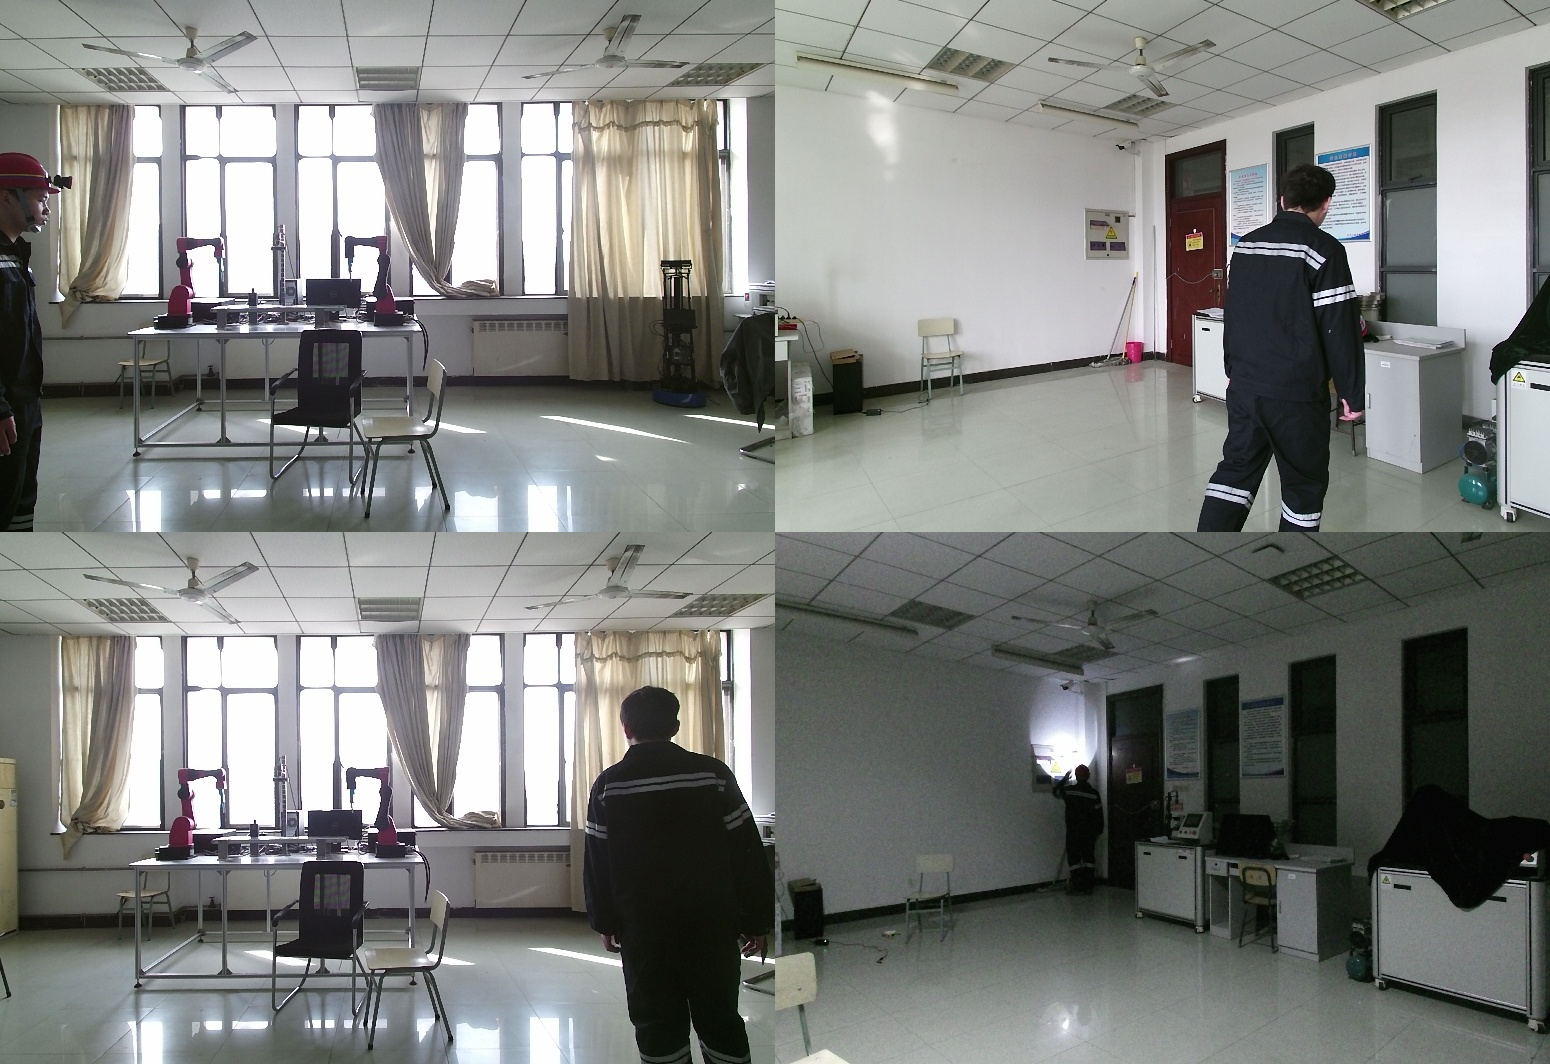person: (582, 686, 769, 1064), (1196, 166, 1365, 532), (1, 152, 76, 532), (1049, 765, 1110, 898)
